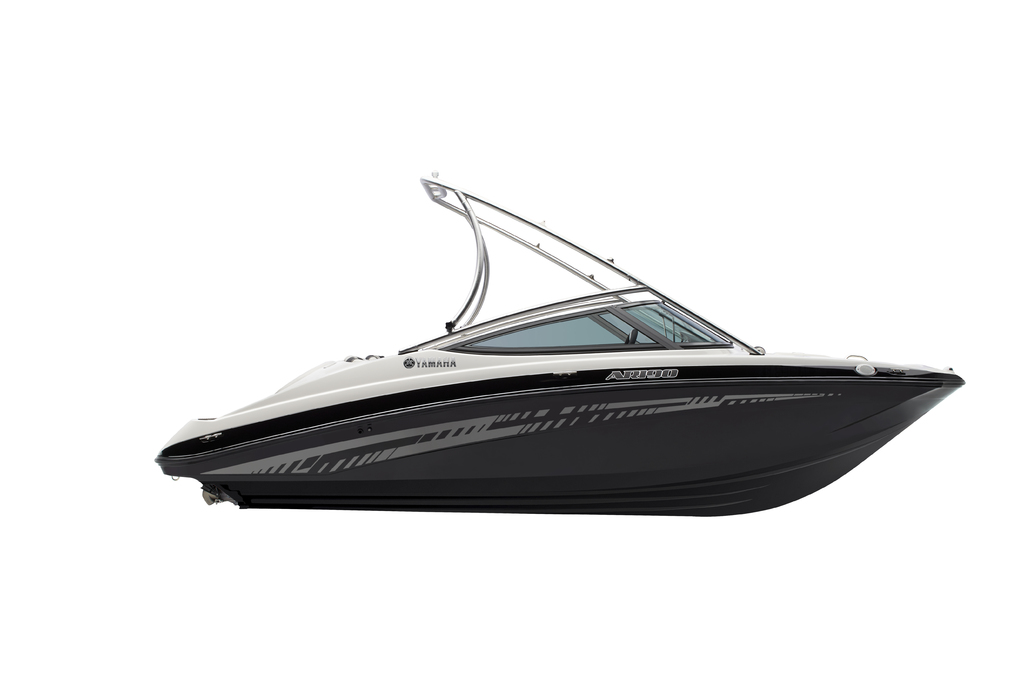boat: (103, 148, 981, 544)
